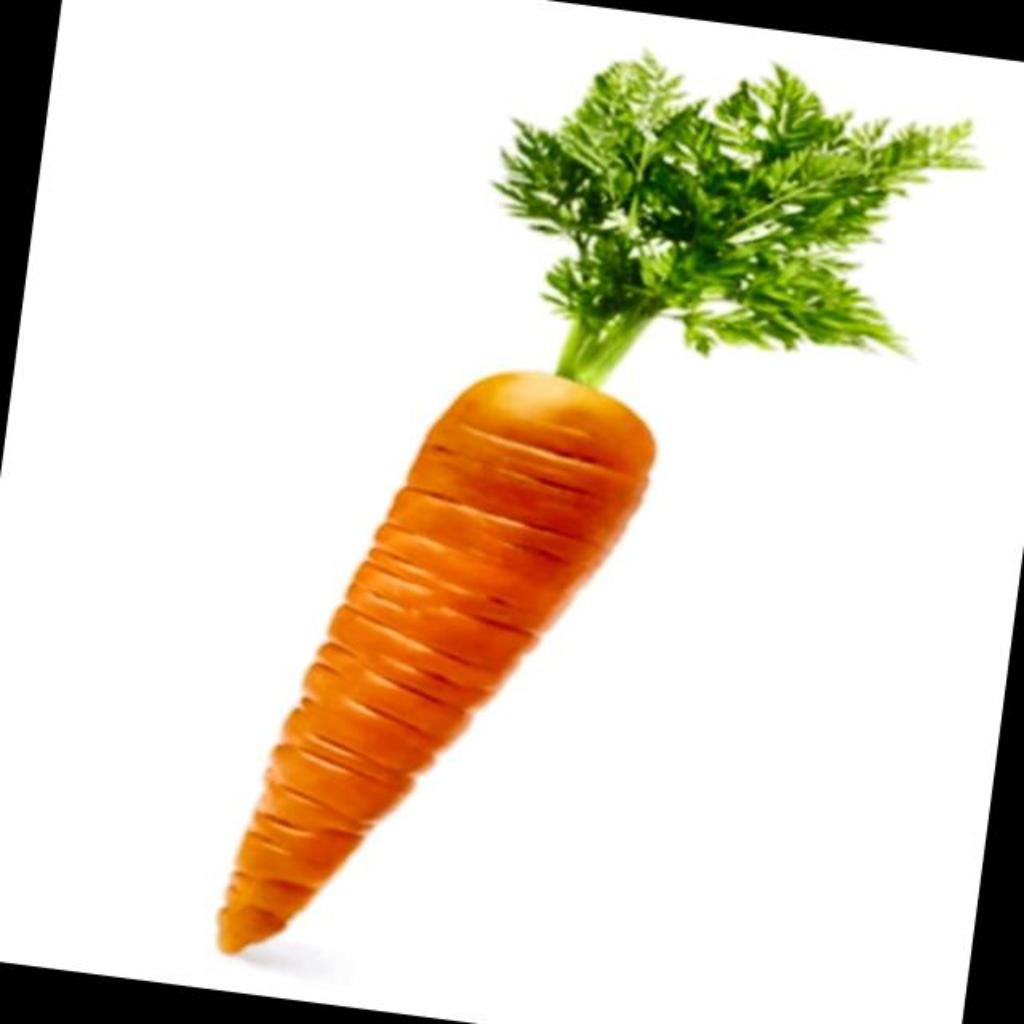carrot: (218, 54, 974, 951)
